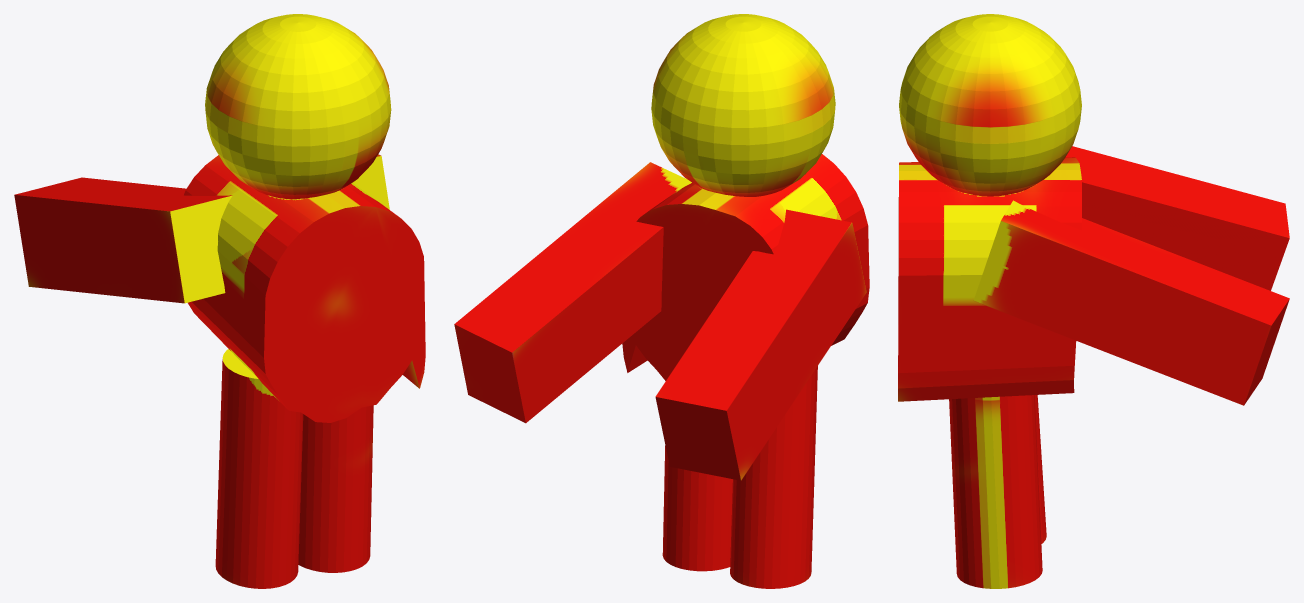
The model's file is Figurine155.obj.
3 renders of one model, left to right at view 1: azimuth 30°, elevation 25°; view 2: azimuth 150°, elevation 25°; view 3: azimuth 270°, elevation 25°, orthographic.
Parts seen in each view (by area): view 1: Bone.005, Bone.010, Bone.007, Bone.014, Bone.012, Bone.006, Bone.003, Bone.002; view 2: Bone.007, Bone.004, Bone.010, Bone.005, Bone.014, Bone.012, Bone.002; view 3: Bone.004, Bone.002, Bone.010, Bone.012, Bone.006, Bone.007, Bone.014, Cylinder_Material.001, Bone.005.
Boxes of the visible parts, <box> form: Bone.005: <box>184,155,425,422</box>; Bone.010: <box>205,14,391,199</box>; Bone.007: <box>14,177,232,303</box>; Bone.014: <box>215,359,303,588</box>; Bone.012: <box>298,405,373,572</box>; Bone.006: <box>170,195,232,303</box>; Bone.003: <box>352,156,389,209</box>; Bone.002: <box>339,183,419,388</box>; Bone.007: <box>655,209,866,480</box>; Bone.004: <box>454,162,691,423</box>; Bone.010: <box>651,14,835,196</box>; Bone.005: <box>622,154,869,380</box>; Bone.014: <box>730,366,817,588</box>; Bone.012: <box>662,445,732,571</box>; Bone.002: <box>627,182,702,372</box>; Bone.004: <box>973,200,1289,405</box>; Bone.002: <box>898,180,1081,401</box>; Bone.010: <box>899,14,1081,196</box>; Bone.012: <box>949,395,1042,588</box>; Bone.006: <box>1082,182,1289,290</box>; Bone.007: <box>1065,146,1289,237</box>; Bone.014: <box>1035,395,1046,543</box>; Cylinder_Material.001: <box>899,170,1081,179</box>; Bone.005: <box>898,157,1080,389</box>.
Bounding box in the file's own units: 3.49 × 6.44 × 4.28.
